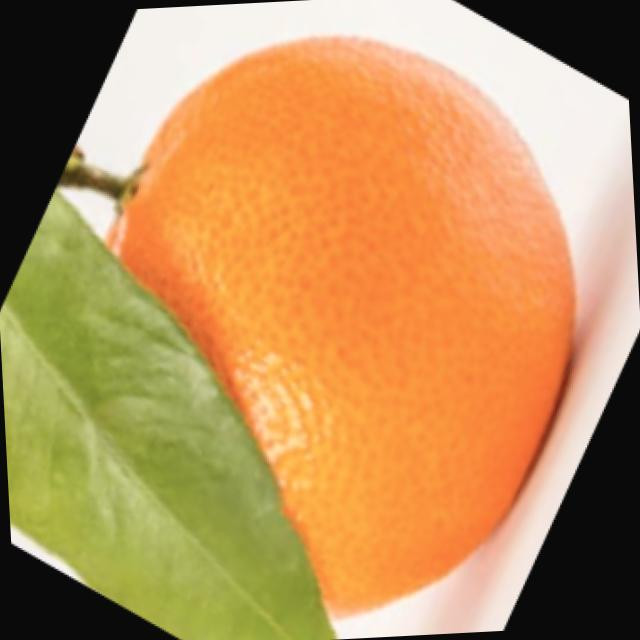orange: (63, 8, 591, 619)
